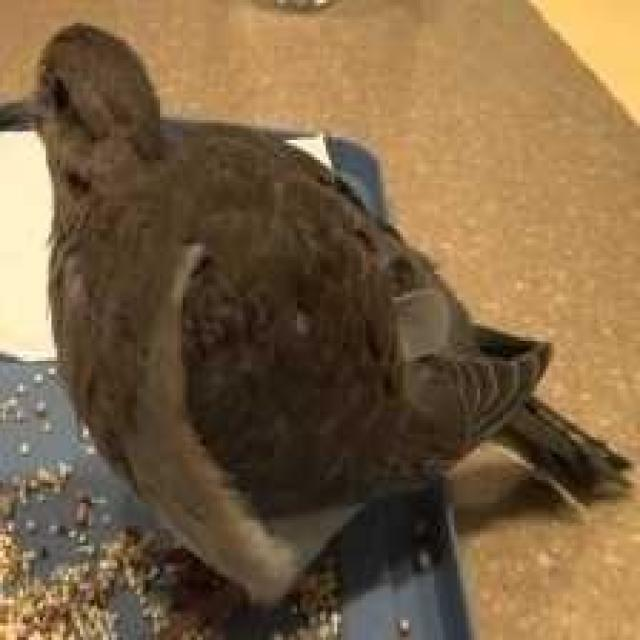dove: (3, 18, 629, 628)
